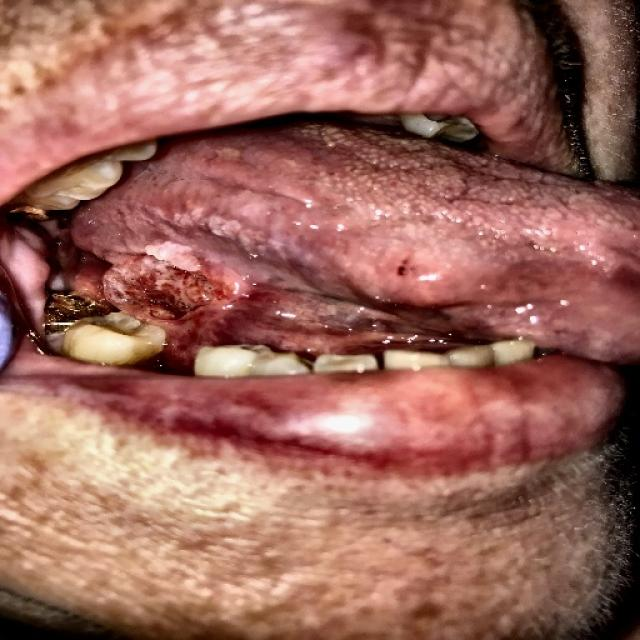cancer-detection: (69, 226, 249, 361)
processing_area: (1, 123, 639, 357)
